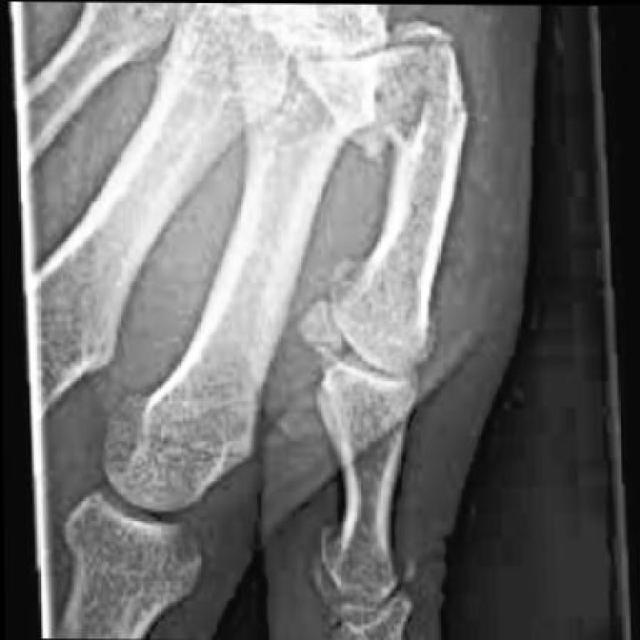Fracture: (302, 28, 473, 166)
